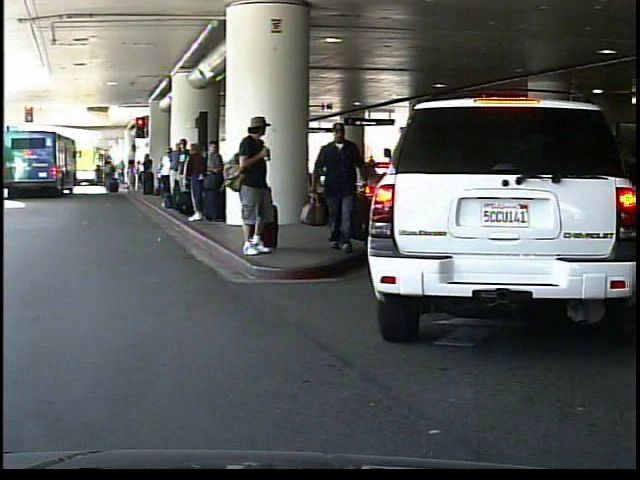person: (313, 118, 374, 255), (234, 116, 287, 258)
